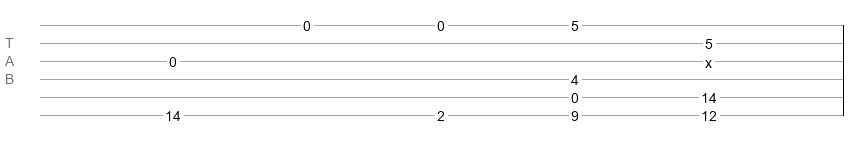0: (169, 54, 177, 64), (303, 18, 311, 28), (437, 18, 445, 28), (571, 90, 579, 100)
12: (701, 108, 717, 118)
14: (165, 108, 181, 118), (701, 90, 717, 100)
2: (437, 108, 445, 118)
4: (571, 72, 579, 82)
5: (571, 18, 579, 28), (705, 36, 713, 46)
9: (571, 108, 579, 118)
x: (705, 55, 712, 63)
